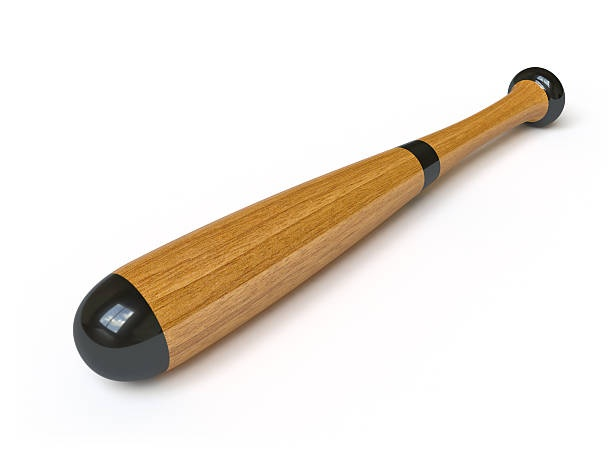bita: (79, 61, 561, 377)
